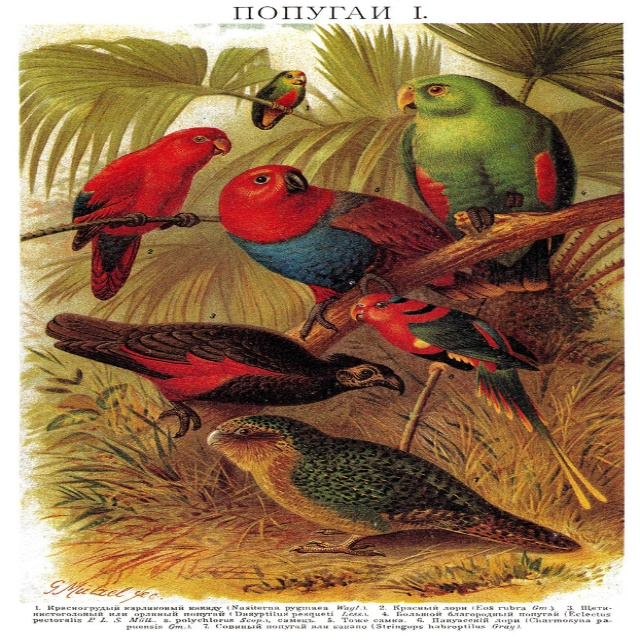Parrot: (340, 284, 629, 514), (385, 63, 595, 310), (208, 161, 506, 308), (57, 120, 250, 303), (247, 61, 311, 142)
